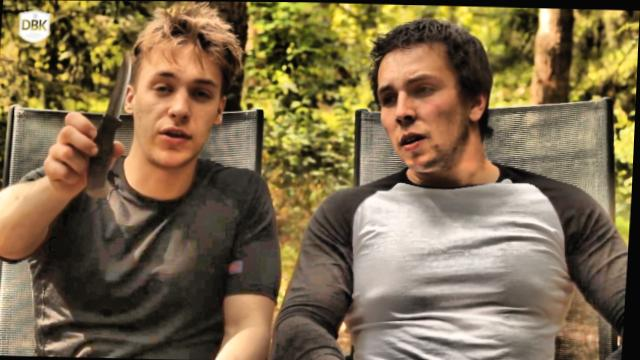knife: (75, 41, 141, 191)
